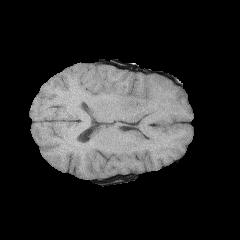glioma: (117, 72, 176, 121)
